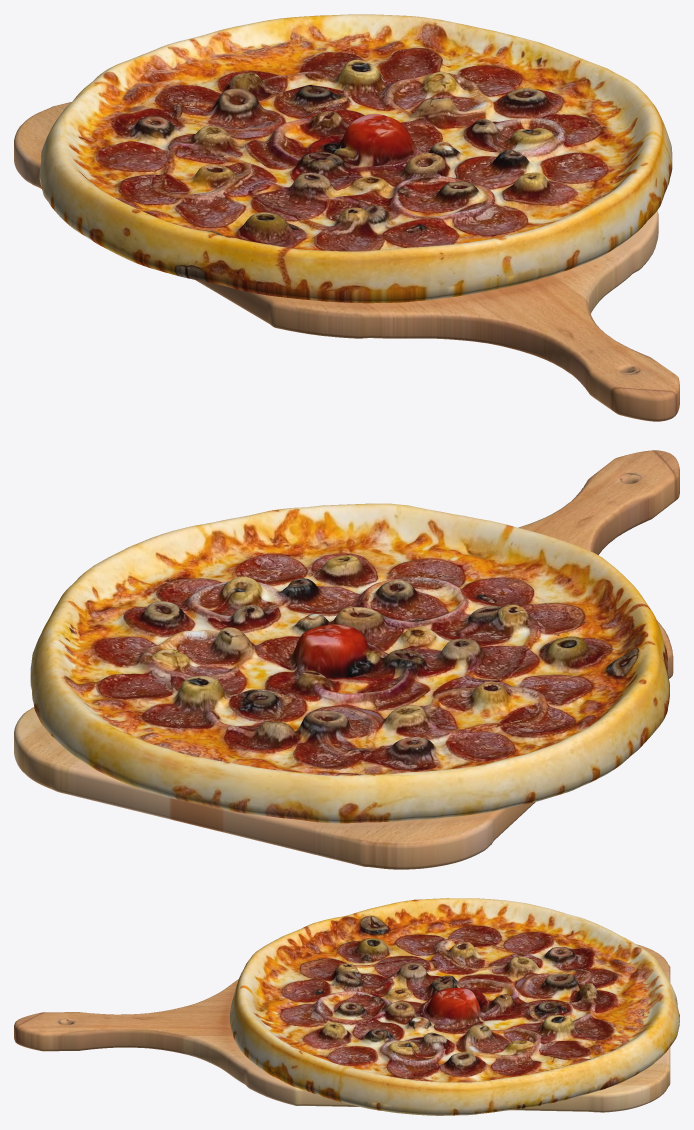
Rendered from pizza-pepperoni.glb.
3 renders of one model, top to bottom at view 1: azimuth 30°, elevation 25°; view 2: azimuth 150°, elevation 25°; view 3: azimuth 270°, elevation 25°, orthographic. The views are drawn at different scales.
Visible parts, largest first — view 1: pizza-pepperoni, peel.002; view 2: pizza-pepperoni, peel.002; view 3: pizza-pepperoni, peel.002.
Boxes of the visible parts, x1,y1,x2,y2 form: pizza-pepperoni: (39,14,672,303); peel.002: (14,102,679,421); pizza-pepperoni: (30,503,669,823); peel.002: (14,450,679,869); pizza-pepperoni: (230,898,679,1115); peel.002: (14,944,670,1112).
Size of the model in its own units: 0.3039 by 0.0395 by 0.4422.
2 materials, 2 textured.
